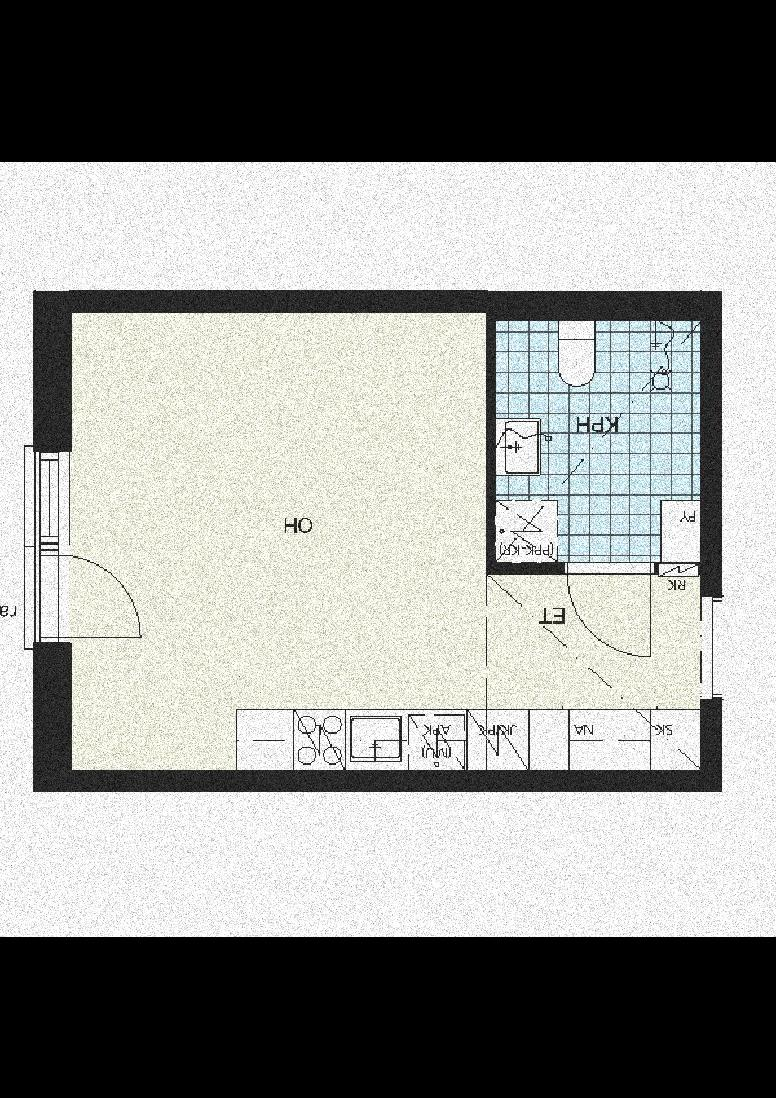door: (548, 559, 657, 673), (34, 553, 146, 643)
window: (39, 448, 61, 555)
zone: (72, 309, 484, 773), (495, 320, 699, 559), (483, 573, 700, 770)
